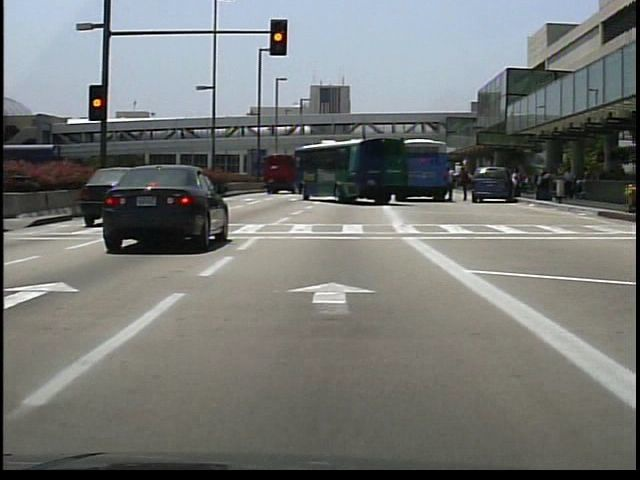person: (457, 161, 471, 204), (512, 168, 524, 203), (451, 164, 452, 202)
